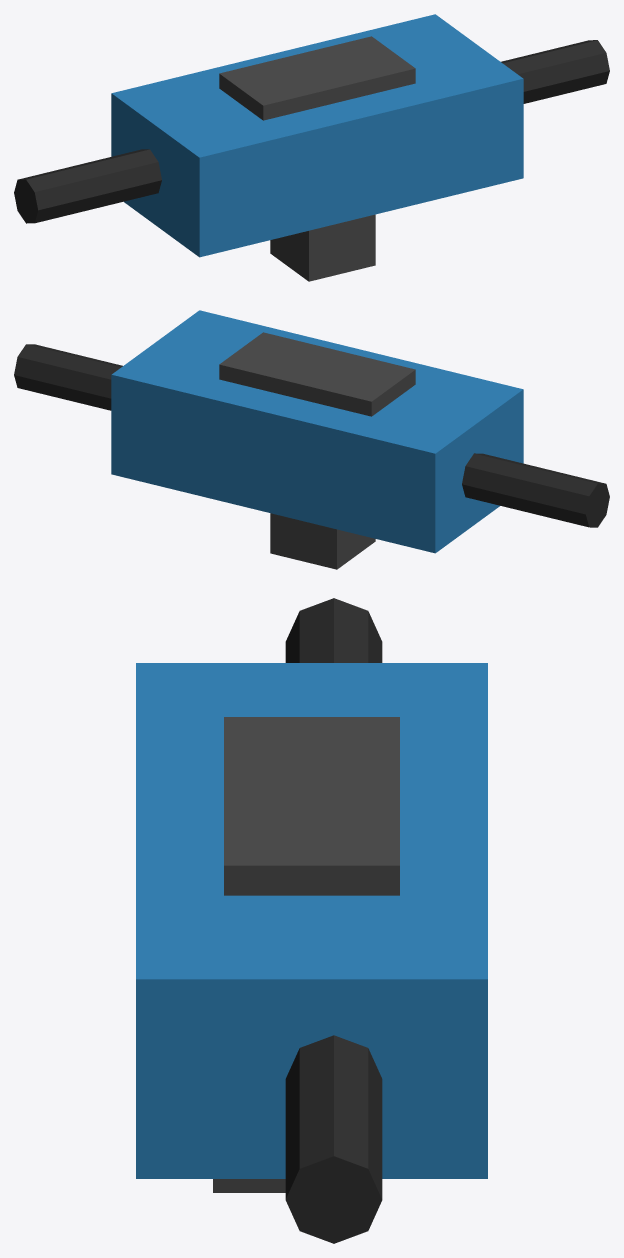
The model's file is scooter_handlebar.obj.
3 views of the same model, one above another, from view 1: azimuth 30°, elevation 25°; view 2: azimuth 150°, elevation 25°; view 3: azimuth 270°, elevation 25° (orthographic). The views are drawn at different scales.
Visible parts, largest first — view 1: scooter_handlebar; view 2: scooter_handlebar; view 3: scooter_handlebar.
Boxes of the visible parts, left/top/right/bottom form: scooter_handlebar: left=14, top=14, right=609, bottom=281; scooter_handlebar: left=14, top=310, right=609, bottom=569; scooter_handlebar: left=136, top=598, right=487, bottom=1243.
Bounding box in the file's own units: 0.6 × 0.185 × 0.16.
